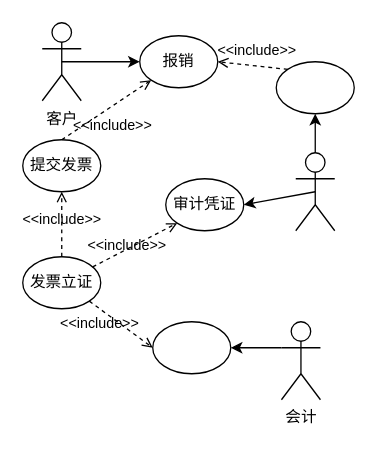
This 377x450 diagram has some shape labels left out. Each missing label, with the box of its shape:
审核员: (294, 151, 335, 231)
建立凭证: (151, 320, 231, 374)
放款: (275, 60, 354, 114)
